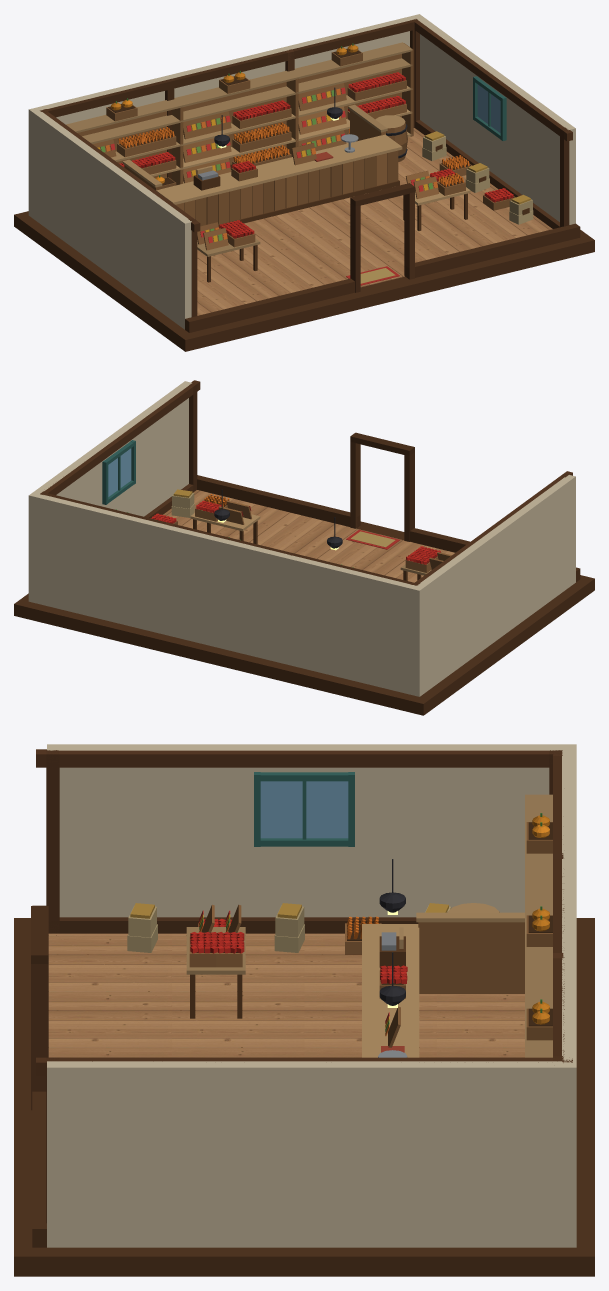
The model's file is tienda_interior_semillas.glb.
The picture shows the model from 3 angles, top to bottom: view 1: azimuth 30°, elevation 25°; view 2: azimuth 150°, elevation 25°; view 3: azimuth 270°, elevation 25°; orthographic projection. The views are drawn at different scales.
Visible parts, largest first — view 1: SM_TiendaInterior_semillas; view 2: SM_TiendaInterior_semillas; view 3: SM_TiendaInterior_semillas.
Part boxes in pixels (left/top/right/bottom): SM_TiendaInterior_semillas: left=14, top=14, right=594, bottom=351; SM_TiendaInterior_semillas: left=14, top=380, right=594, bottom=715; SM_TiendaInterior_semillas: left=14, top=744, right=594, bottom=1276.
Bounding box in the file's own units: 10.9 × 3.02 × 7.9.
Materials: 4 (1 with a texture image).
